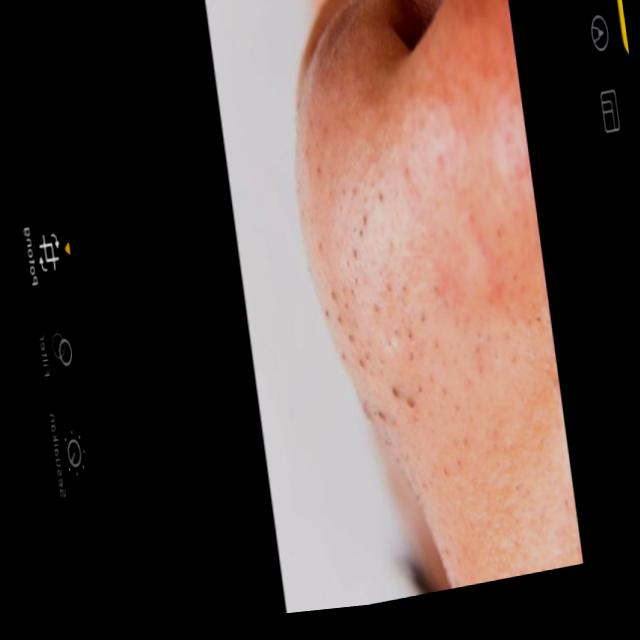blackhead: (310, 166, 423, 445)
